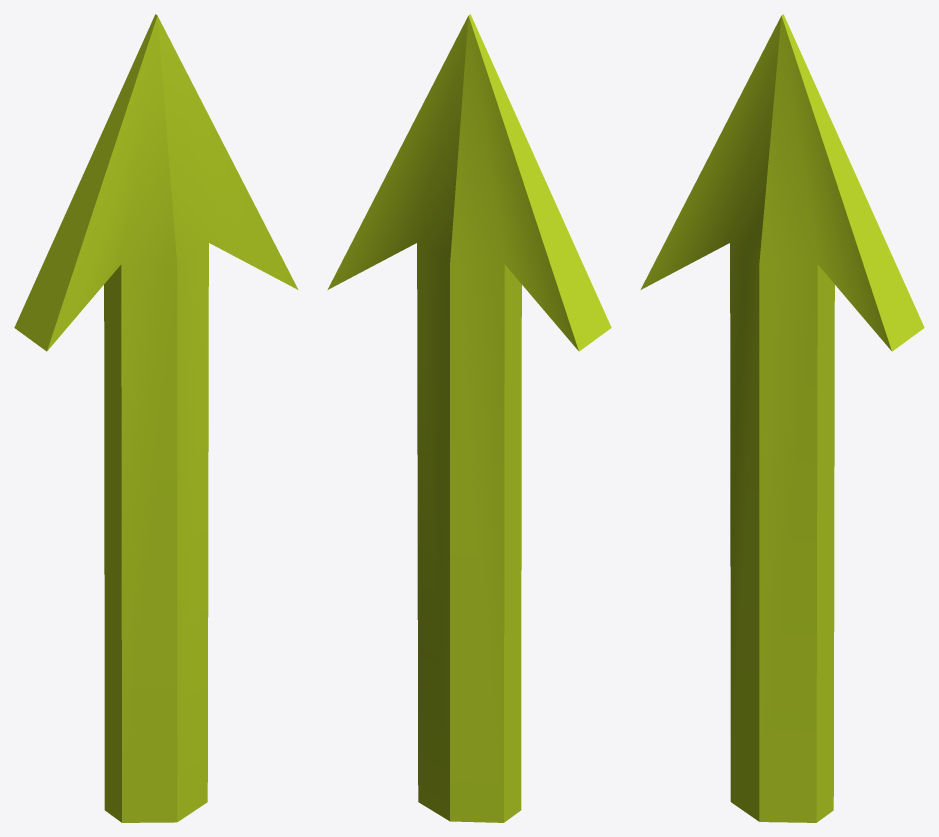
Rendered from Arrow.fbx.
3 renders of one model, left to right at view 1: azimuth 30°, elevation 25°; view 2: azimuth 150°, elevation 25°; view 3: azimuth 330°, elevation 25°, orthographic.
Parts seen in each view (by area): view 1: pCube6; view 2: pCube6; view 3: pCube6.
Boxes of the visible parts, box(x1,y1,x2,y2) form: pCube6: box(14, 14, 298, 822); pCube6: box(327, 14, 611, 822); pCube6: box(640, 14, 924, 822).
Size of the model in its own units: 0.0533 by 0.1601 by 0.0156.
